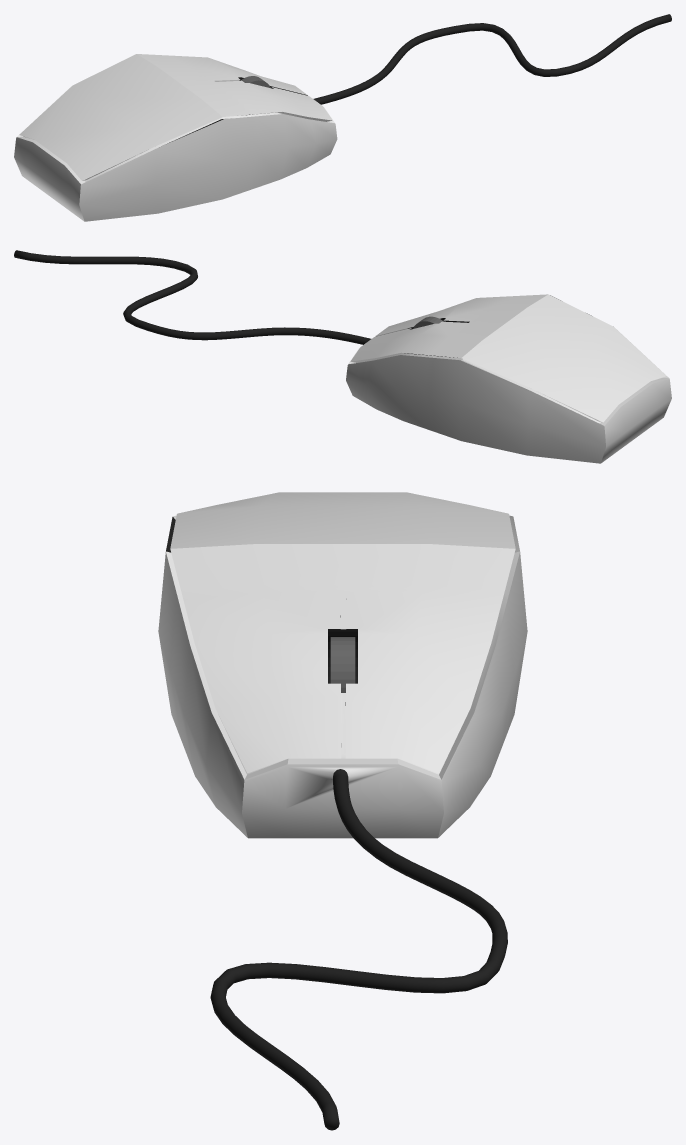
File: mouse.fbx
3 views of the same model, one above another, from view 1: azimuth 30°, elevation 25°; view 2: azimuth 150°, elevation 25°; view 3: azimuth 270°, elevation 25° (orthographic). The views are drawn at different scales.
Parts seen in each view (by area): view 1: BézierCurve; view 2: BézierCurve; view 3: BézierCurve.
Boxes of the visible parts, left/top/right/bottom form: BézierCurve: left=14, top=14, right=671, bottom=221; BézierCurve: left=14, top=250, right=671, bottom=463; BézierCurve: left=158, top=492, right=527, bottom=1130.
Size of the model in its own units: 652 by 85.72 by 167.
Materials: 1 (1 with a texture image).
